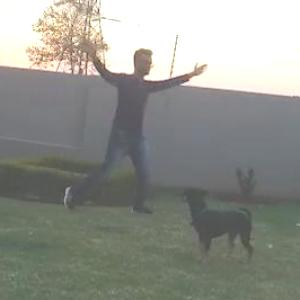takeoff: (73, 36, 209, 209)
